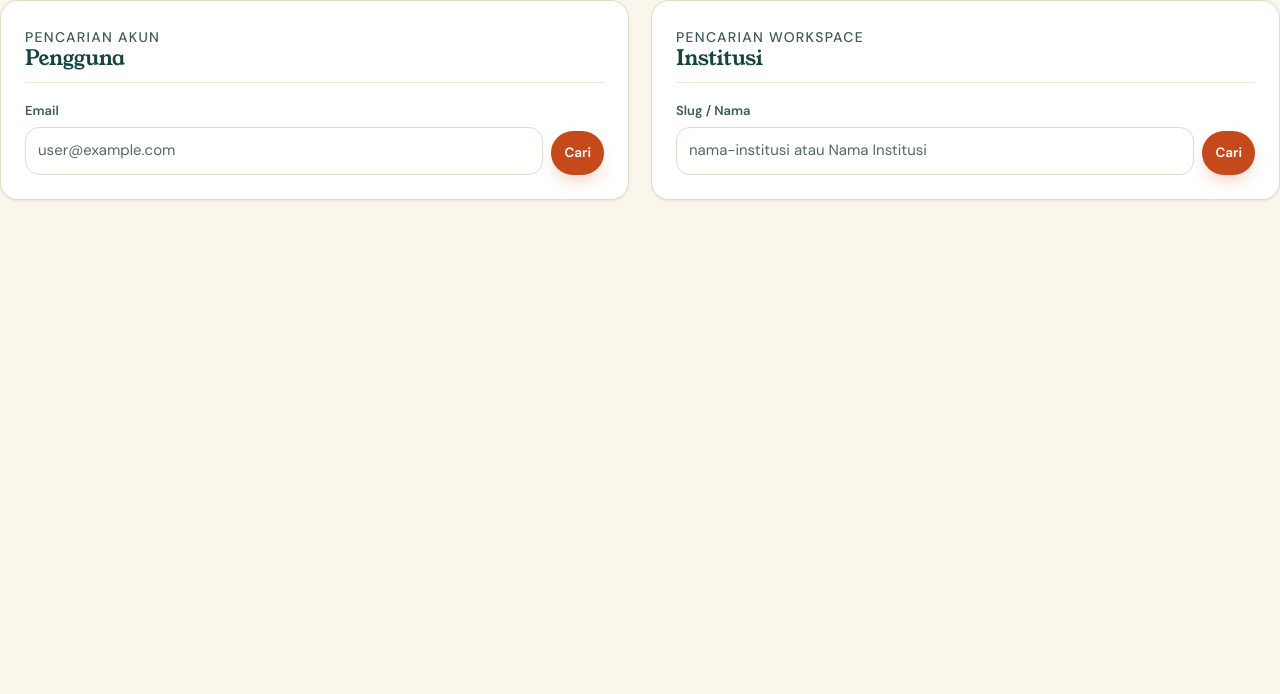
Test: what the user panel offers › offers both actions on a recruiter below the target tier
Type "target@example.test" into the field labelled "Email".
click(284, 151); type("target@example.test")  # box top-left (25, 127), bottom-right (543, 175)
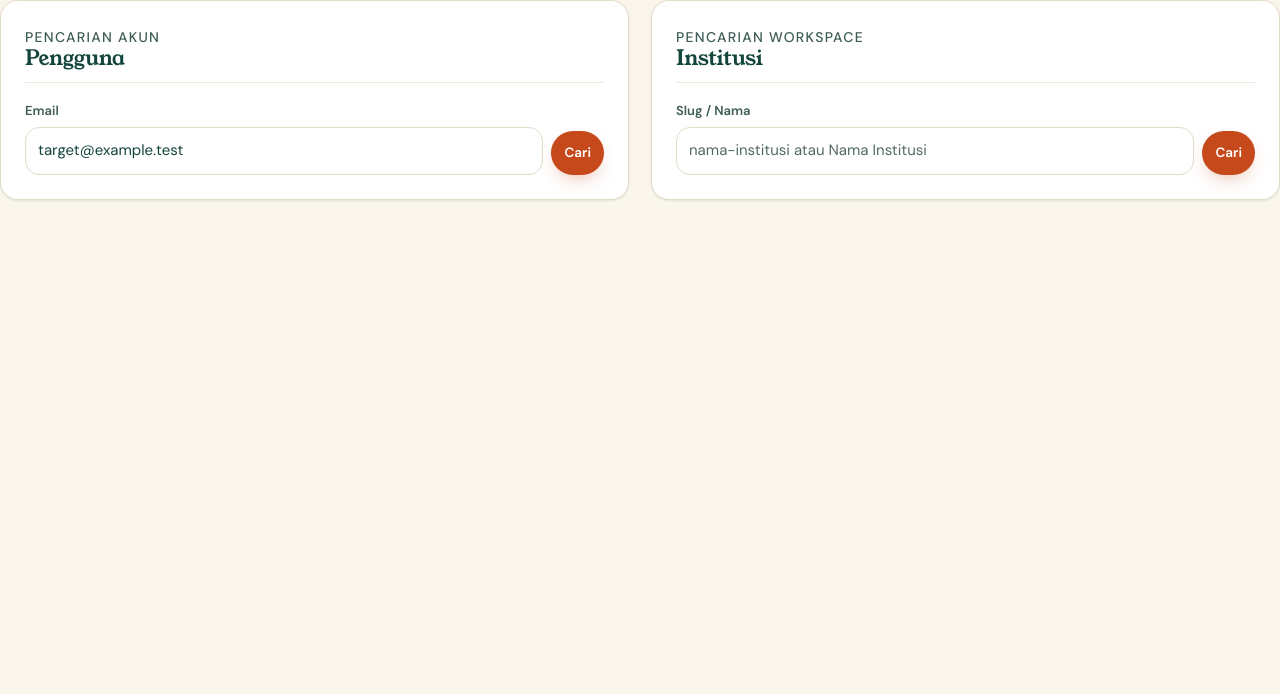
Click the 1st button "Cari".
click(578, 153)  # box top-left (551, 131), bottom-right (604, 175)
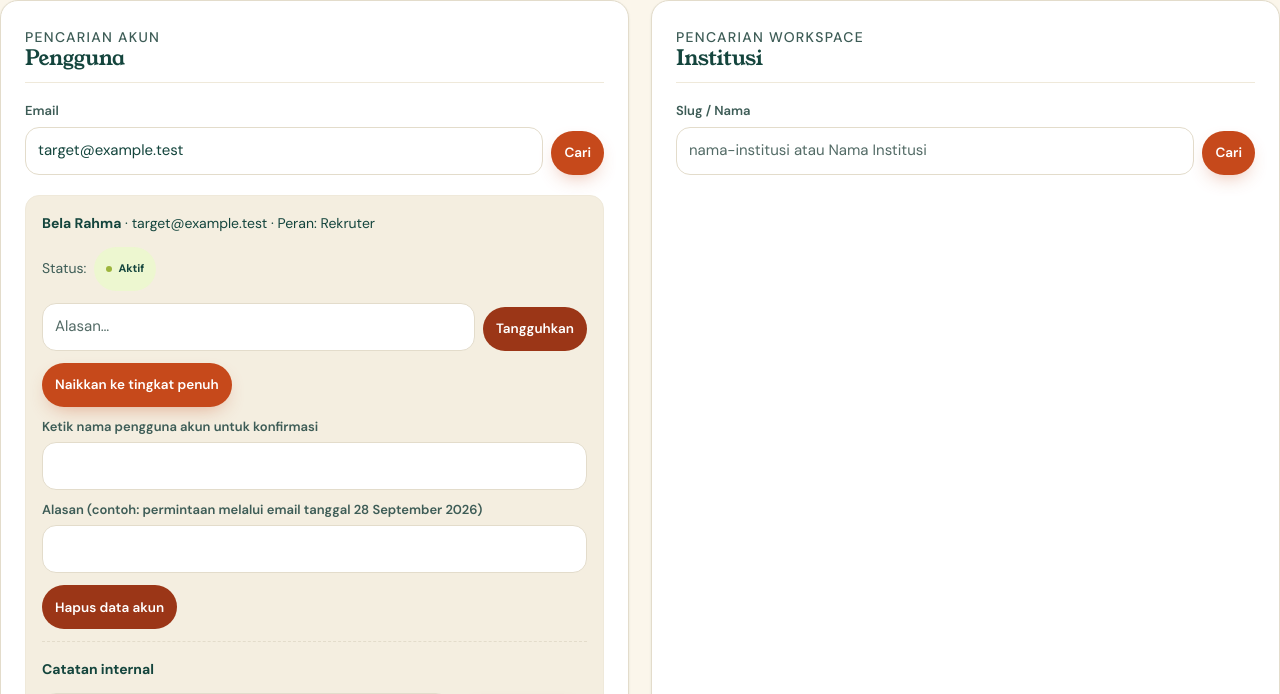
Now the text "Bela Rahma" is shown, box top-left (42, 214), bottom-right (121, 232)
Now the button "Naikkan ke tingkat penuh" is shown, box top-left (42, 363), bottom-right (232, 407)
Now the button "Hapus data akun" is shown, box top-left (42, 585), bottom-right (177, 629)
